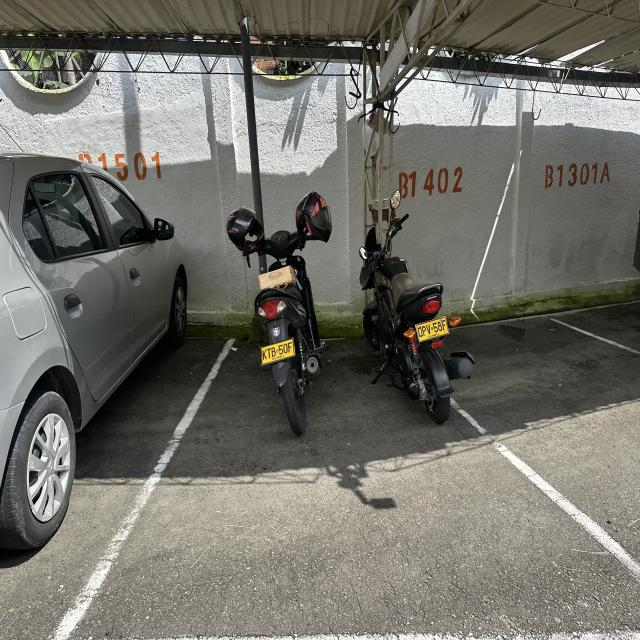number plate: (260, 338, 295, 366), (415, 316, 448, 342)
